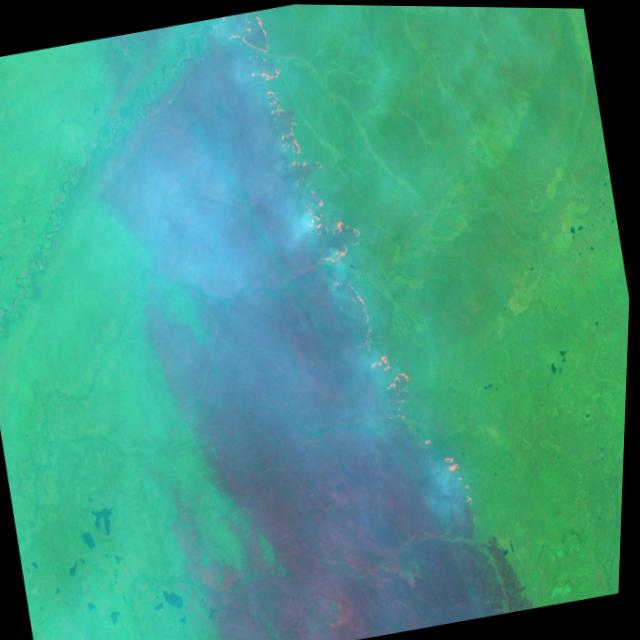fire: (200, 3, 495, 542)
